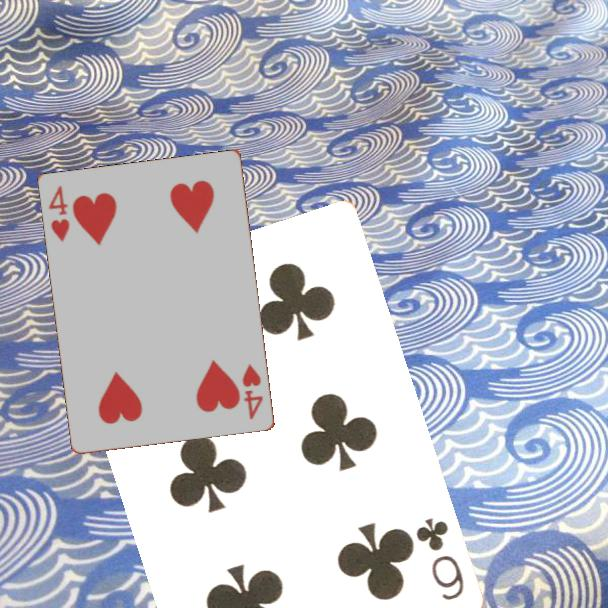c06: (412, 514, 466, 603)
h04: (46, 182, 73, 246), (239, 360, 266, 423)
